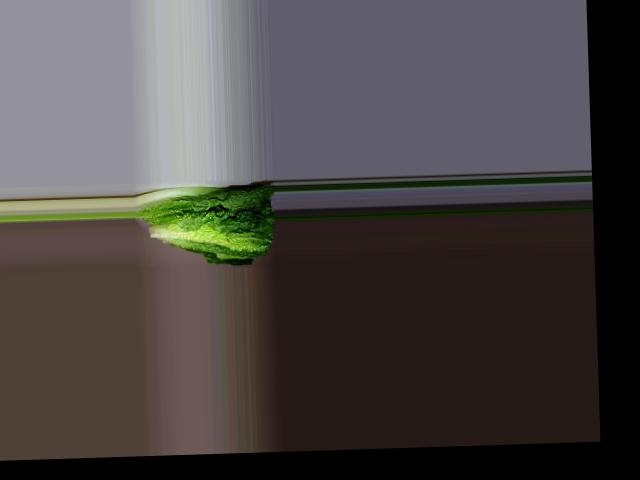lettuce: (141, 180, 277, 258)
